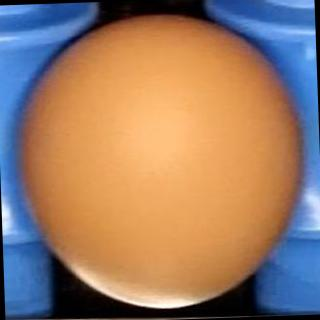Telur: (3, 7, 319, 316)
